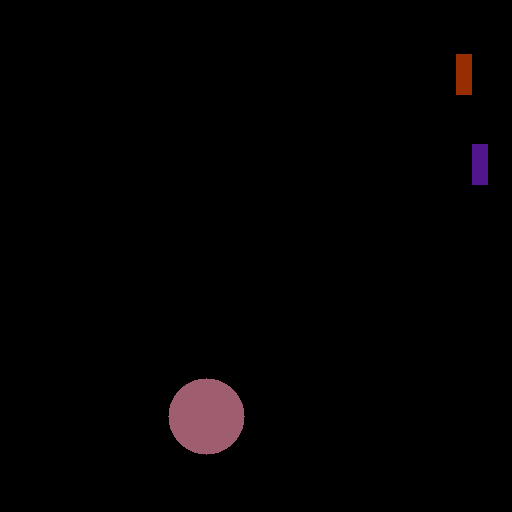circle: (167, 374, 247, 459)
up_rect: (451, 52, 476, 99), (469, 141, 489, 189)
